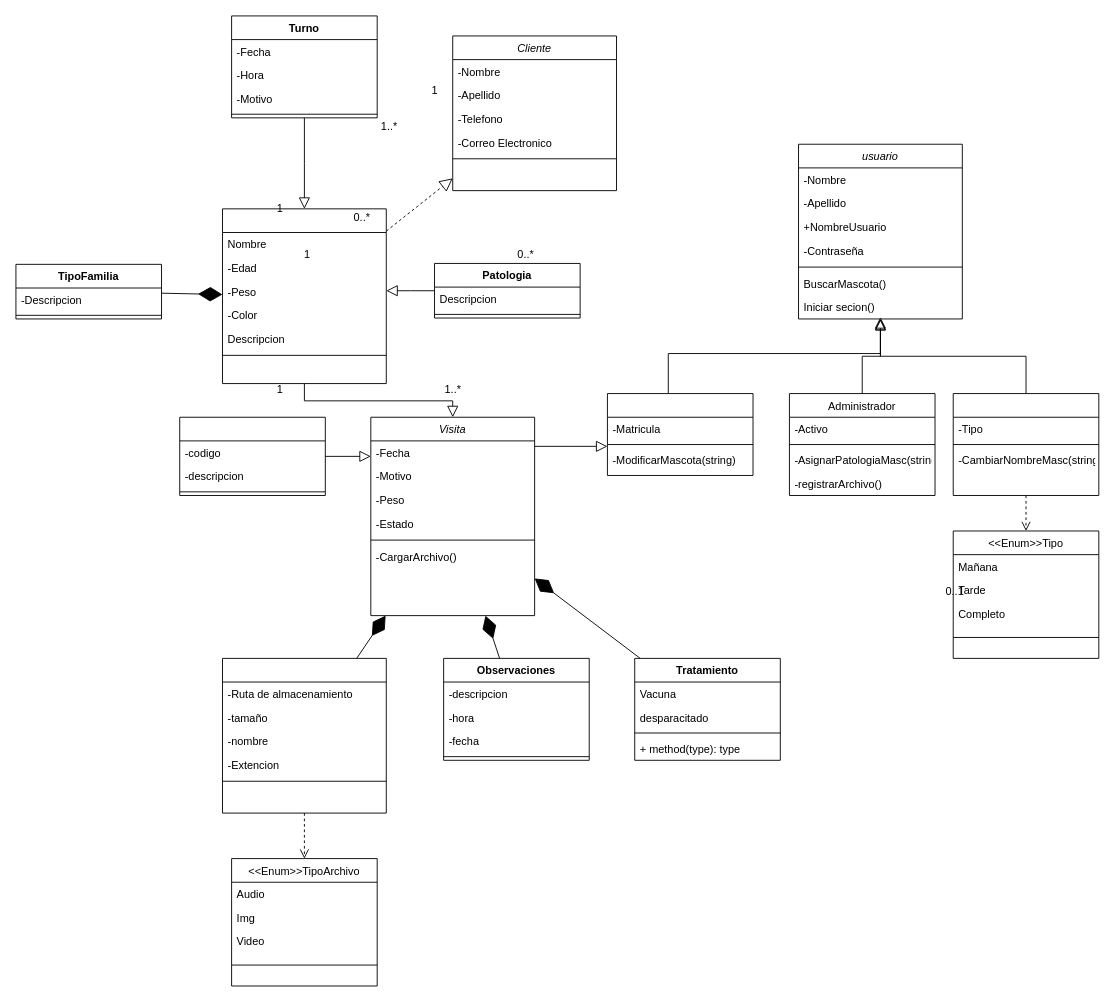
Image size: 1117x1002. Some labels were removed from this diagram. The box of each missing label's shape, as (x1, y1, x2, y2) in pixels:
Archivo: (222, 657, 386, 813)
Ayudante: (952, 393, 1099, 495)
Mascota: (222, 208, 386, 384)
Profesional: (607, 393, 753, 475)
TipoVisita: (179, 416, 325, 495)
